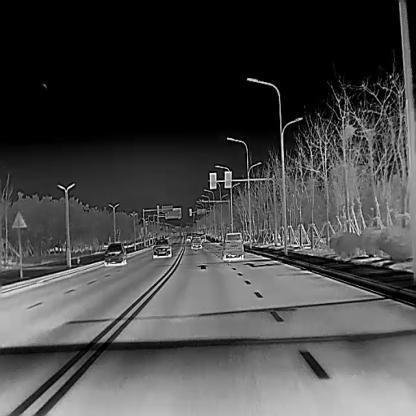car: (222, 231, 244, 260), (103, 240, 127, 265), (151, 238, 172, 259), (190, 236, 202, 249), (186, 235, 193, 240)
